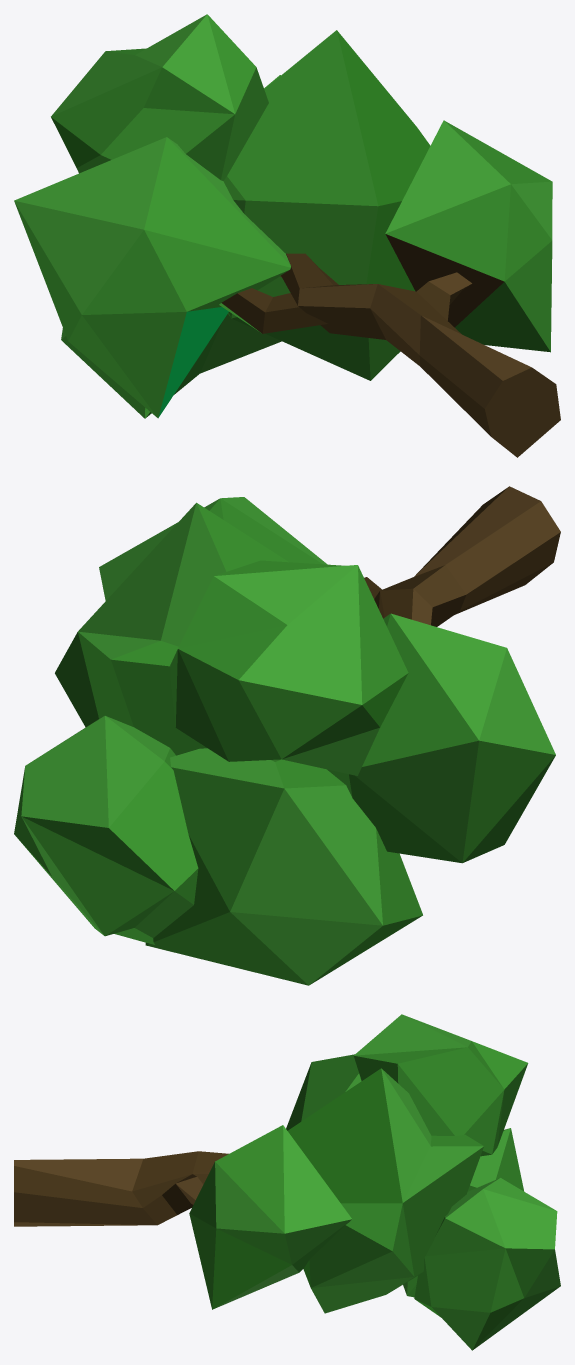
Rendered from tree_5.fbx.
3 views of the same model, one above another, from view 1: azimuth 30°, elevation 25°; view 2: azimuth 150°, elevation 25°; view 3: azimuth 270°, elevation 25° (orthographic). The views are drawn at different scales.
Visible parts, largest first — view 1: tree_5; view 2: tree_5; view 3: tree_5.
Boxes of the visible parts, x1,y1,x2,y2 form: tree_5: [14, 14, 560, 457]; tree_5: [14, 486, 560, 985]; tree_5: [14, 1014, 560, 1350].
Size of the model in its own units: 109 by 83.01 by 152.
